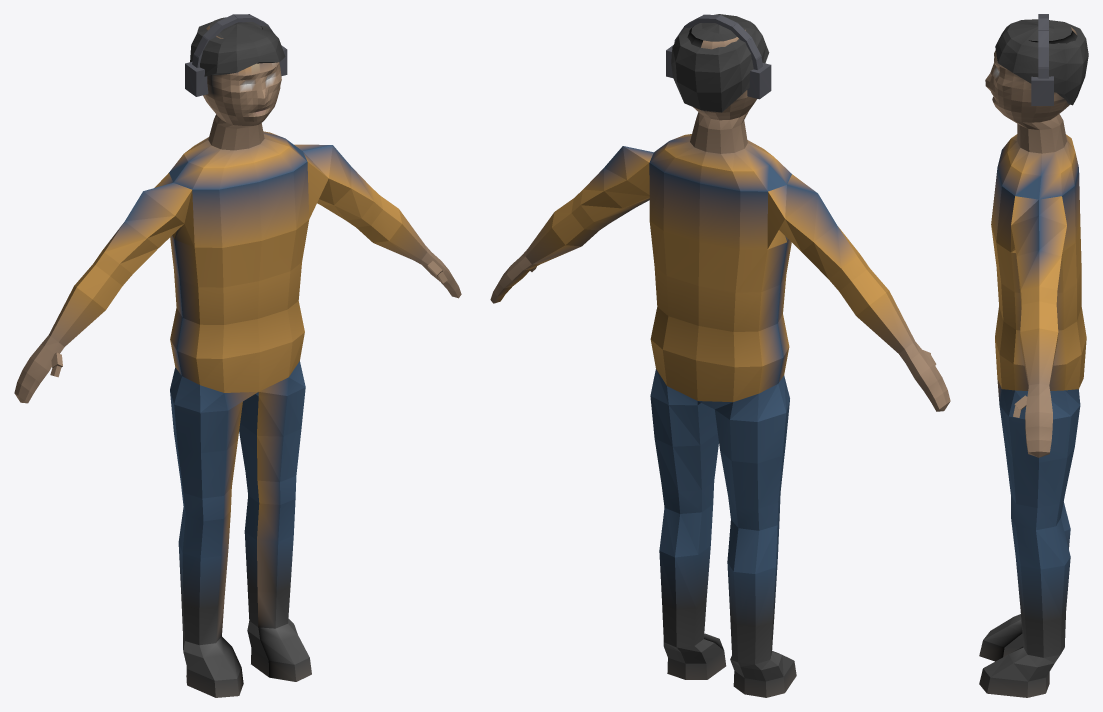
Rendered from char__pessoa__caetano.glb.
The picture shows the model from 3 angles, left to right: view 1: azimuth 30°, elevation 25°; view 2: azimuth 150°, elevation 25°; view 3: azimuth 270°, elevation 25°; orthographic projection. The views are drawn at different scales.
Parts seen in each view (by area): view 1: char__pessoa__caetano; view 2: char__pessoa__caetano; view 3: char__pessoa__caetano.
Part boxes in pixels (x1,y1,x2,y2): char__pessoa__caetano: (14, 14, 461, 697); char__pessoa__caetano: (490, 14, 950, 697); char__pessoa__caetano: (979, 14, 1088, 697).
Bounding box in the file's own units: 1.28 × 1.82 × 0.2756.
